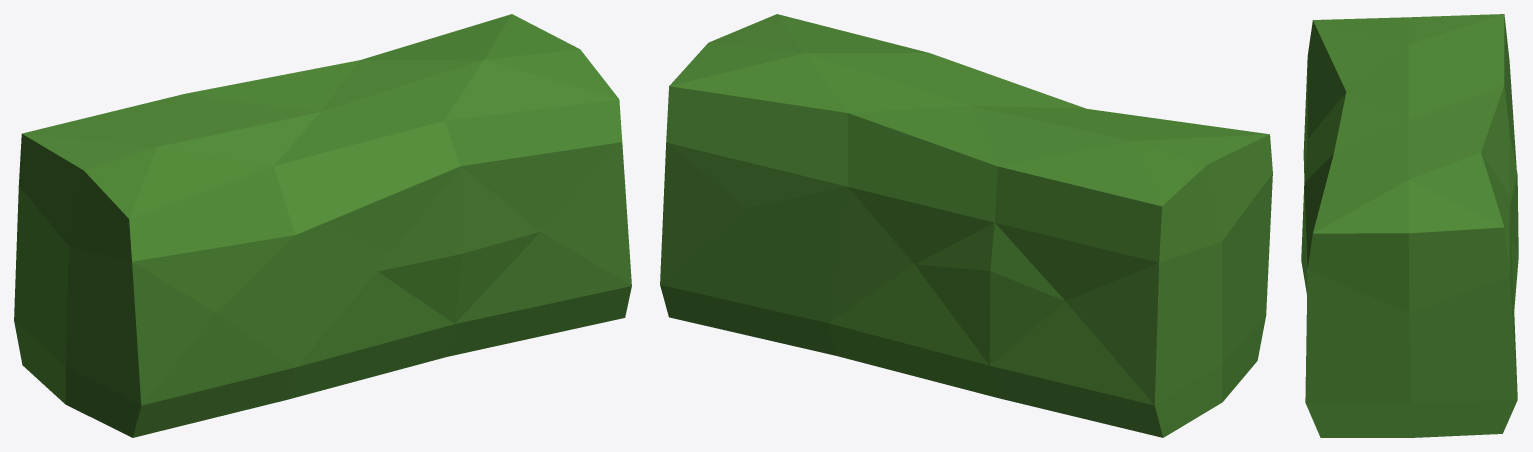
File: props_fence-shrub.fbx
3 views of the same model, side by side, from view 1: azimuth 30°, elevation 25°; view 2: azimuth 150°, elevation 25°; view 3: azimuth 270°, elevation 25° (orthographic). The views are drawn at different scales.
Parts seen in each view (by area): view 1: props_fence_shrub; view 2: props_fence_shrub; view 3: props_fence_shrub.
Boxes of the visible parts, left/top/right/bottom form: props_fence_shrub: left=14, top=14, right=631, bottom=437; props_fence_shrub: left=660, top=14, right=1272, bottom=437; props_fence_shrub: left=1301, top=14, right=1518, bottom=437.
Size of the model in its own units: 200 by 91.02 by 82.29.
